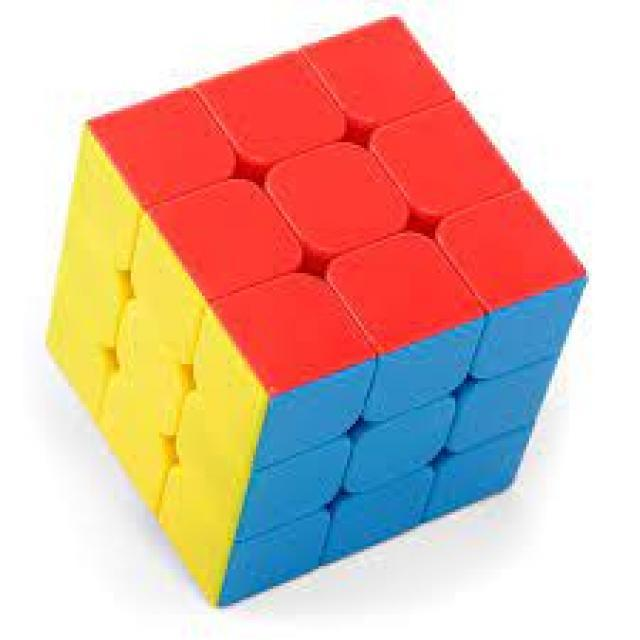Rub: (41, 1, 586, 606)
